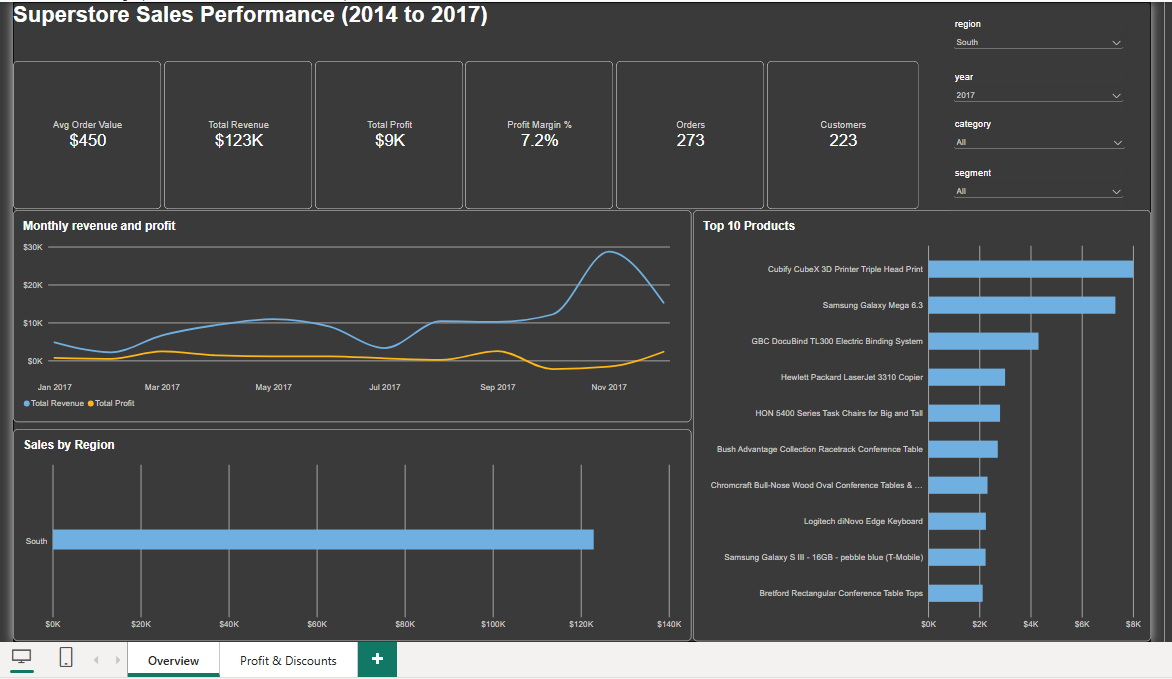

The page's visual inventory and layout, read from the dashboard file:
{"tool":"powerbi","page":{"name":"Overview","canvas":[1920,1080],"ordinal":0},"visuals":[{"type":"textbox","box":[0,0,993,63.9],"z":0},{"type":"cardVisual","fields":{"Data":["_Measures.Total Revenue"]},"box":[254.4,98.9,250,250],"z":1000},{"type":"cardVisual","fields":{"Data":["_Measures.Total Profit"]},"box":[508.9,98.9,250,250],"z":2000},{"type":"cardVisual","fields":{"Data":["_Measures.Customers"]},"box":[1272.1,98.9,256.4,250.6],"z":3000},{"type":"cardVisual","fields":{"Data":["_Measures.Profit Margin %"]},"box":[763.3,98.9,250,250],"z":4000},{"type":"cardVisual","fields":{"Data":["_Measures.Orders"]},"box":[1017.7,98.9,250,250],"z":5000},{"type":"cardVisual","fields":{"Data":["_Measures.Avg Order Value"]},"box":[0,98.9,250,250],"z":6000},{"type":"clusteredBarChart","title":"Sales by Region","fields":{"Category":["dim_location.region"],"Y":["_Measures.Total Revenue"]},"box":[0,720.9,1144.9,358.1],"z":7000},{"type":"clusteredBarChart","title":"Top 10 Products","fields":{"Category":["dim_product.product_name"],"Y":["_Measures.Total Revenue"]},"box":[1147.3,351,772.7,728],"z":8000},{"type":"slicer","fields":{"Values":["dim_product.category"]},"box":[1580.8,197.9,301.5,73],"z":9000},{"type":"slicer","fields":{"Values":["dim_date.year"]},"box":[1580.8,117.8,299.2,73],"z":10000},{"type":"slicer","fields":{"Values":["dim_customer.segment"]},"box":[1580.8,280.3,299.2,70.7],"z":11000},{"type":"slicer","fields":{"Values":["dim_location.region"]},"box":[1580.8,28.3,299.2,70.7],"z":12000},{"type":"lineChart","title":"Monthly revenue and profit","fields":{"Category":["dim_date.year_month"],"Y":["_Measures.Total Revenue","_Measures.Total Profit"]},"box":[0,351,1144.9,358.1],"z":13000}]}

Visuals, with their boxes on the page's 1920x1080 design canvas (x1, y1, x2, y2). These are canvas units, not pixel positions in the 1172x679 screenshot, which may show the page scaled, cropped or inside an application window:
textbox: bbox=[0, 0, 993, 64]
cardVisual - _Measures.Total Revenue: bbox=[254, 99, 504, 349]
cardVisual - _Measures.Total Profit: bbox=[509, 99, 759, 349]
cardVisual - _Measures.Customers: bbox=[1272, 99, 1528, 350]
cardVisual - _Measures.Profit Margin %: bbox=[763, 99, 1013, 349]
cardVisual - _Measures.Orders: bbox=[1018, 99, 1268, 349]
cardVisual - _Measures.Avg Order Value: bbox=[0, 99, 250, 349]
"Sales by Region" clusteredBarChart: bbox=[0, 721, 1145, 1079]
"Top 10 Products" clusteredBarChart: bbox=[1147, 351, 1920, 1079]
slicer - dim_product.category: bbox=[1581, 198, 1882, 271]
slicer - dim_date.year: bbox=[1581, 118, 1880, 191]
slicer - dim_customer.segment: bbox=[1581, 280, 1880, 351]
slicer - dim_location.region: bbox=[1581, 28, 1880, 99]
"Monthly revenue and profit" lineChart: bbox=[0, 351, 1145, 709]
